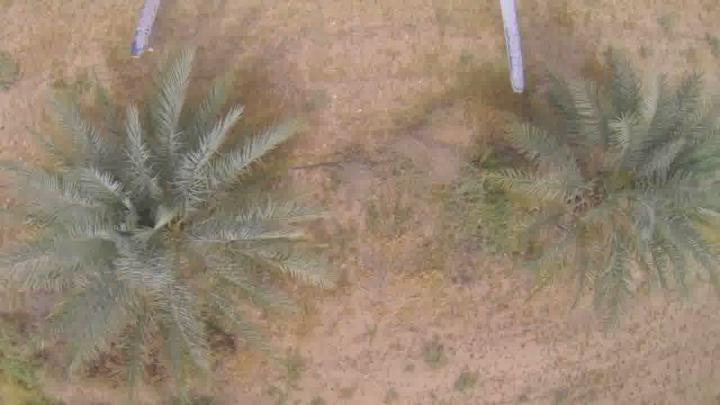Date-Palm-Crown: (53, 126, 258, 317), (531, 88, 709, 294)
